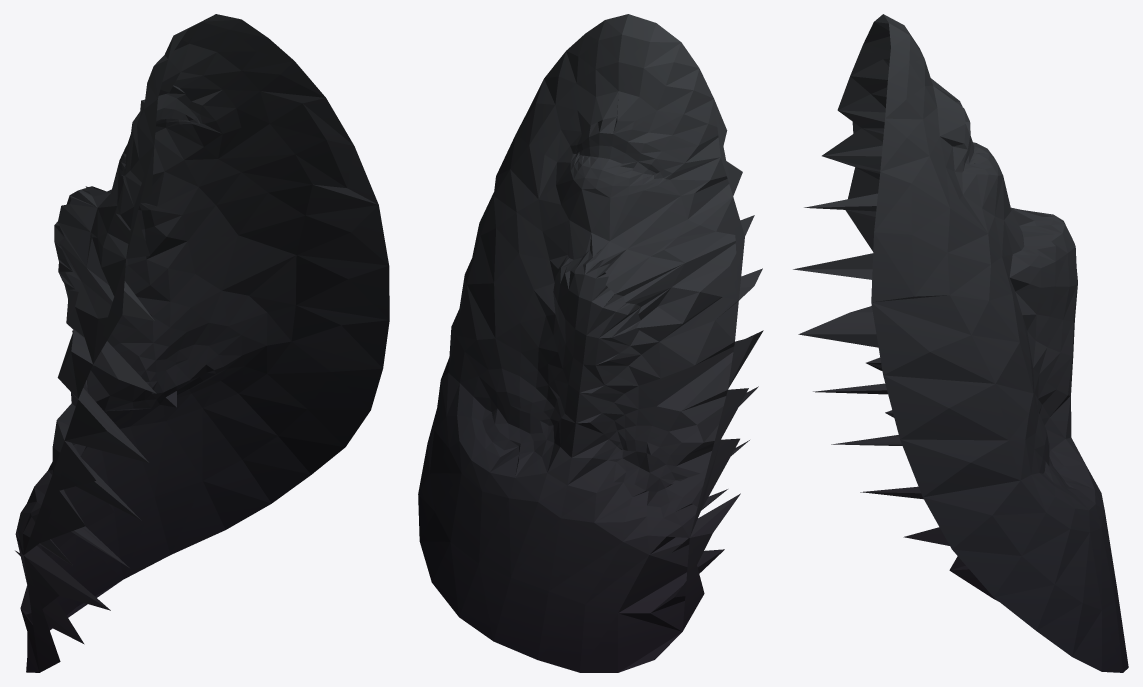
The model's file is Screenshot_2024-06-29_164113.obj.
3 views of the same model, side by side, from view 1: azimuth 30°, elevation 25°; view 2: azimuth 150°, elevation 25°; view 3: azimuth 270°, elevation 25° (orthographic). The views are drawn at different scales.
Bounding box in the file's own units: 0.9003 × 1.85 × 0.8596.
Materials: 1 (1 with a texture image).
